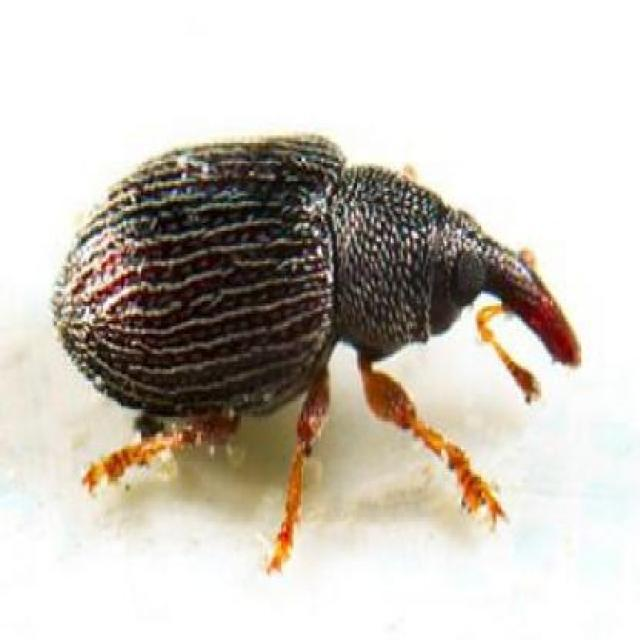rice-bug: (46, 130, 583, 498)
